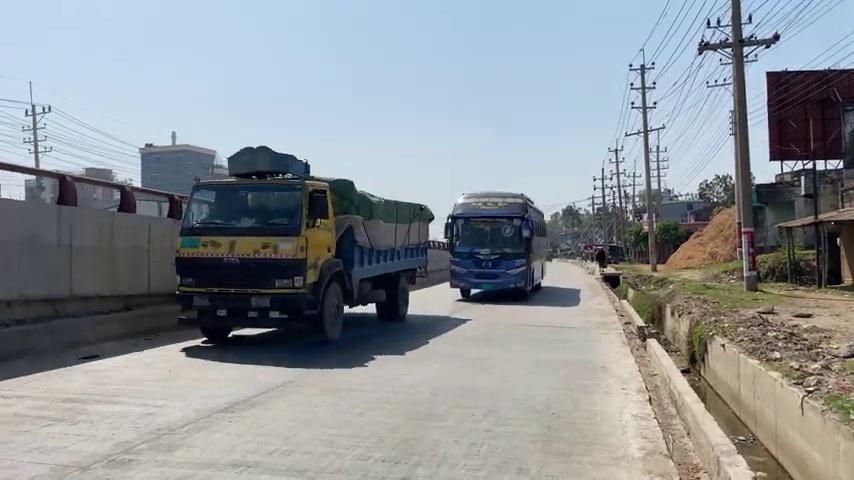Fence: (595, 246, 607, 272)
Garbage: (696, 0, 780, 289), (729, 0, 757, 289), (628, 48, 660, 272)
Garbage-bin: (637, 331, 854, 480)
Rickshaw: (174, 144, 435, 342), (443, 190, 549, 299)
